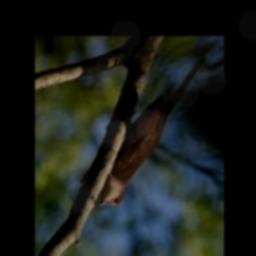Cuckoo: (97, 54, 205, 208)
